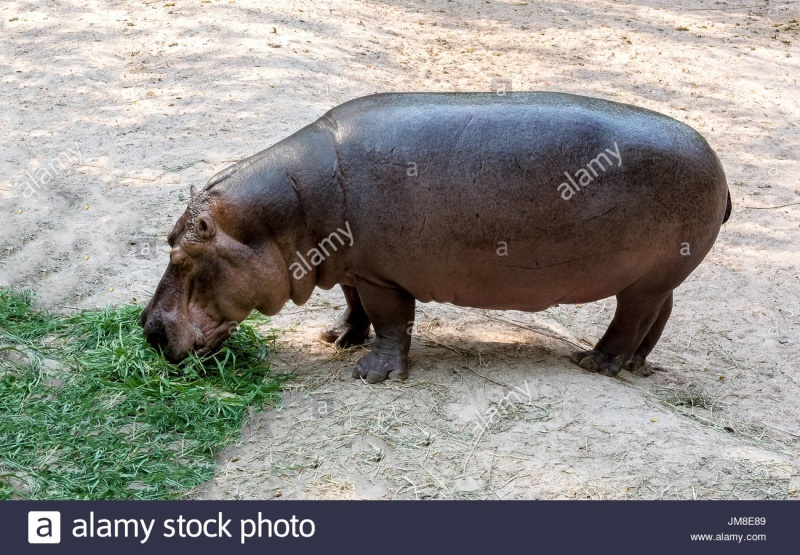hipopotamo: (133, 88, 738, 382)
